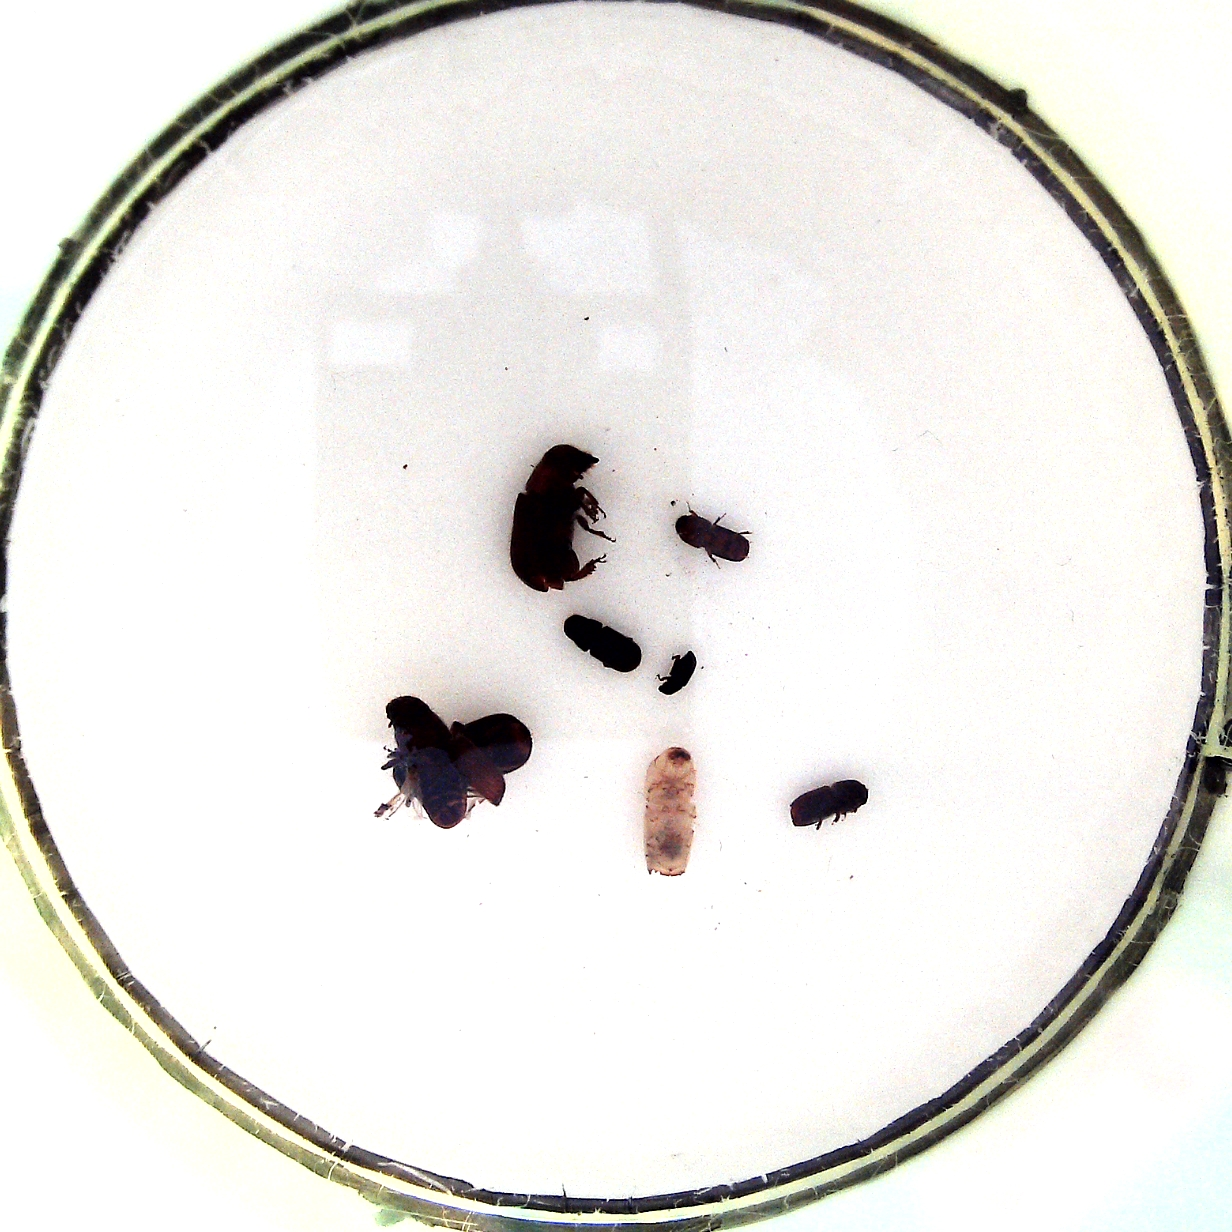Boerner: (635, 740, 701, 882)
Leconte: (371, 690, 505, 830), (505, 441, 607, 597)
Linnaeus: (786, 774, 871, 831)
acuminatus: (674, 505, 755, 566)
armandi: (560, 608, 643, 676)
coleoptera: (651, 646, 699, 697)
